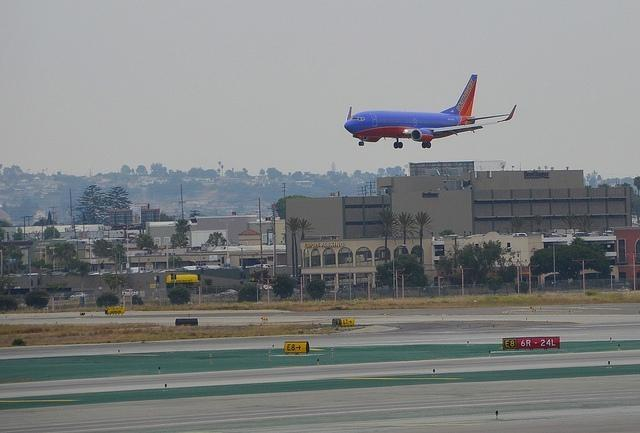car: (70, 292, 90, 300), (219, 290, 238, 296)
